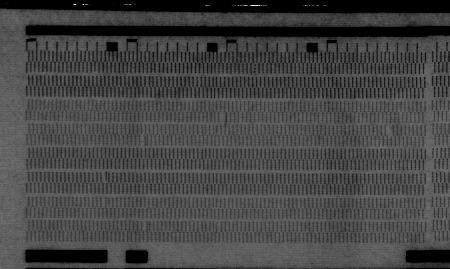Broken hole: (383, 123, 396, 138), (217, 112, 229, 122)
Oblique printing: (139, 134, 149, 148), (141, 219, 152, 231), (99, 172, 110, 183)
